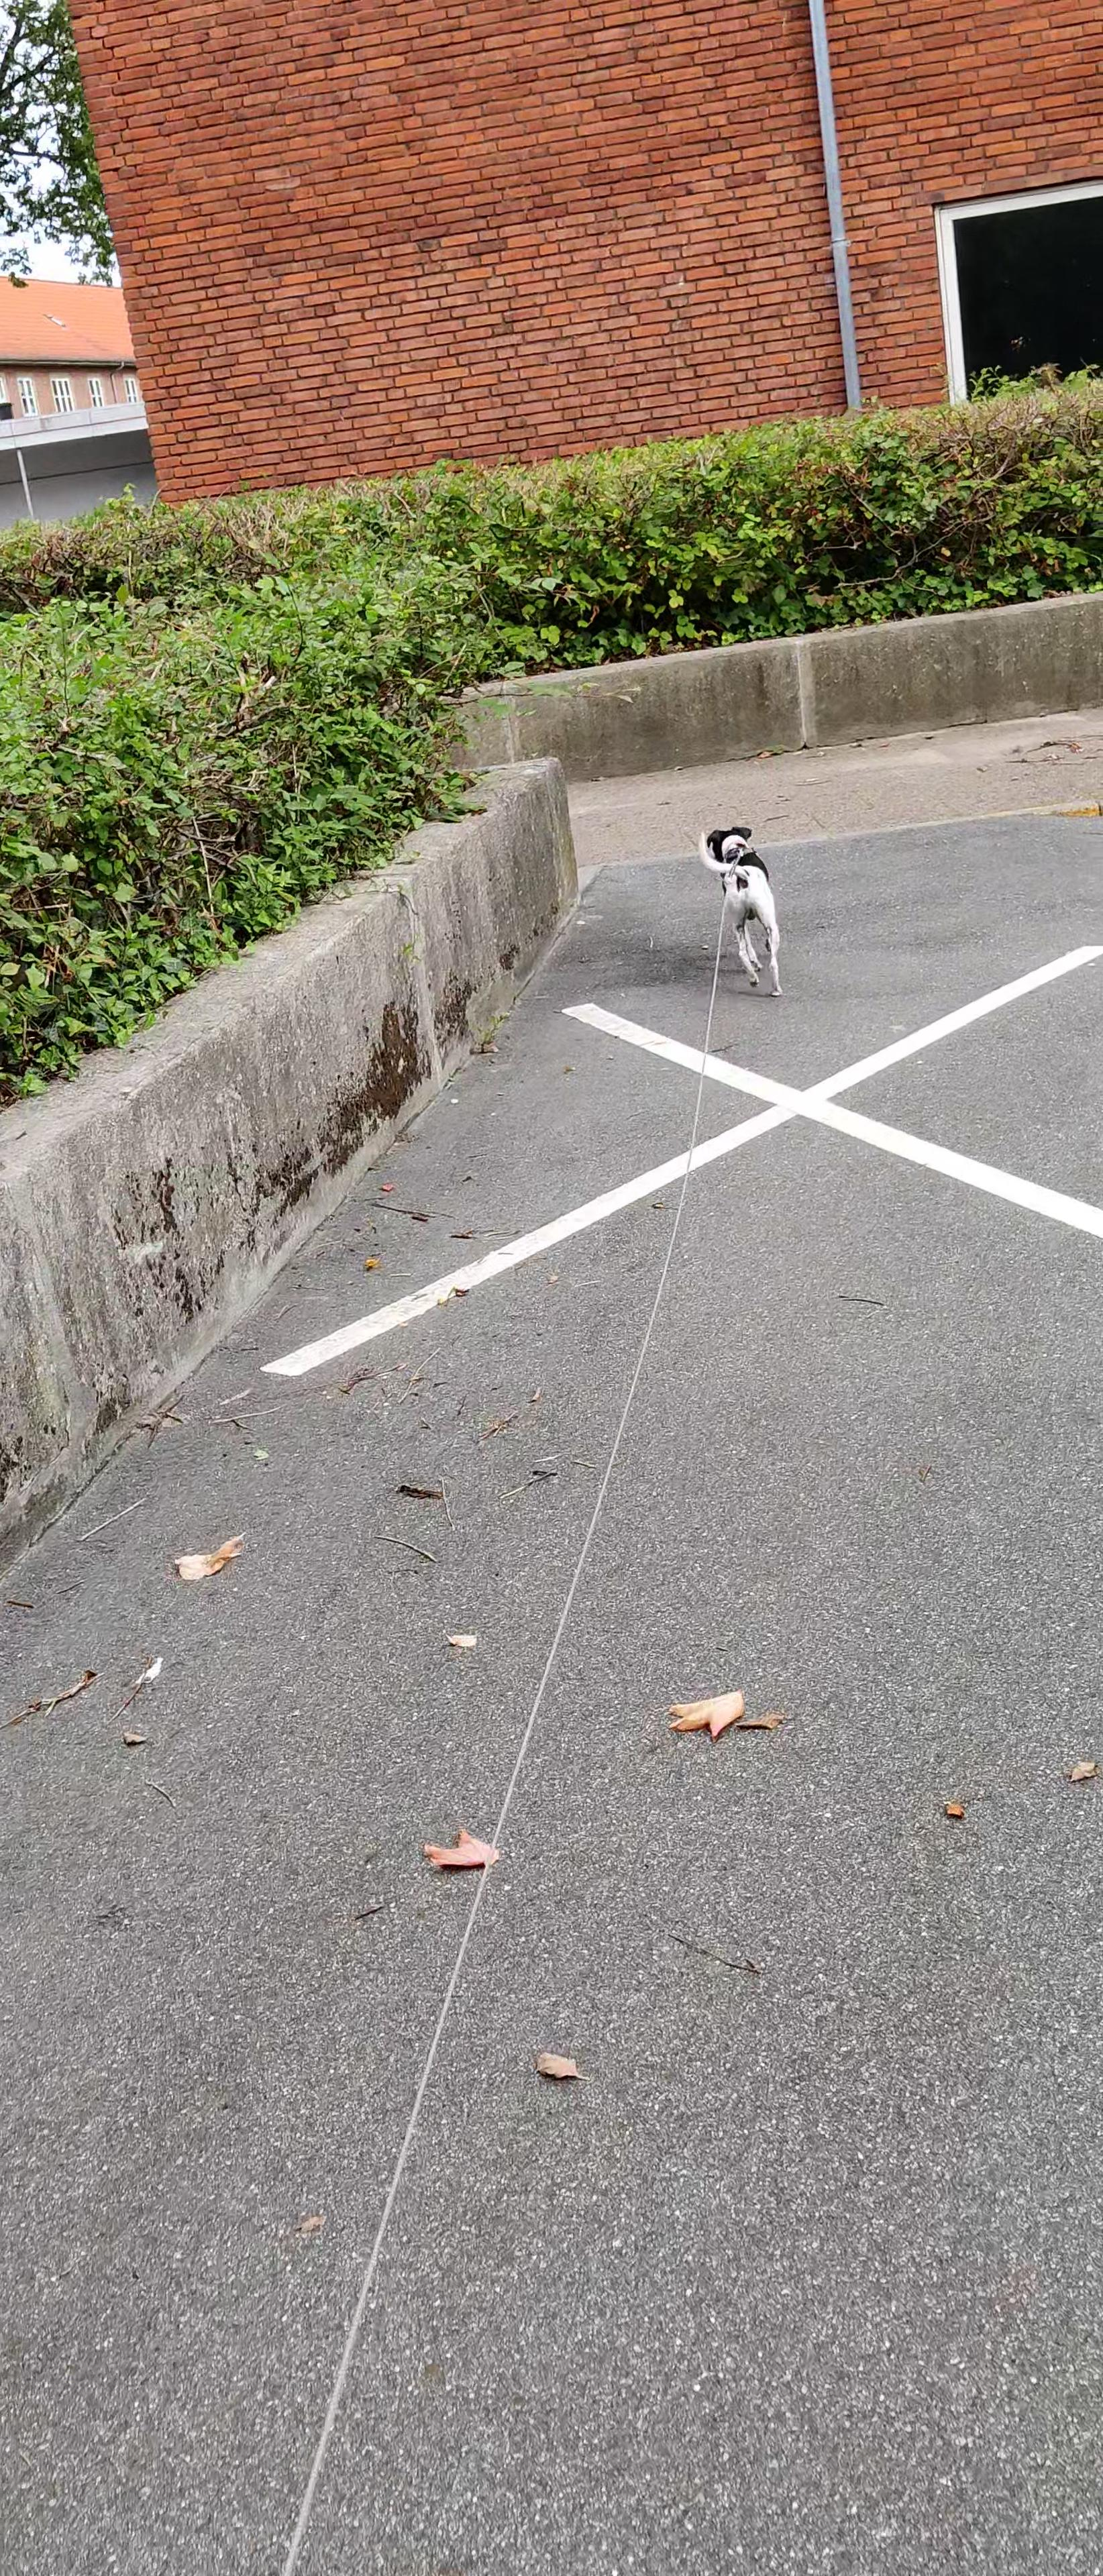Dog: (681, 808, 807, 1014)
